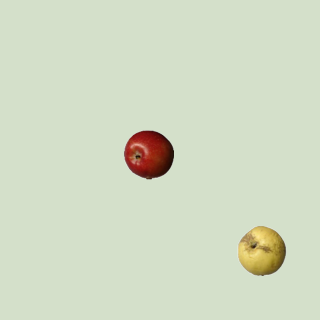Apple Braeburn: (123, 129, 173, 179)
Apple Golden 1: (236, 225, 286, 275)
